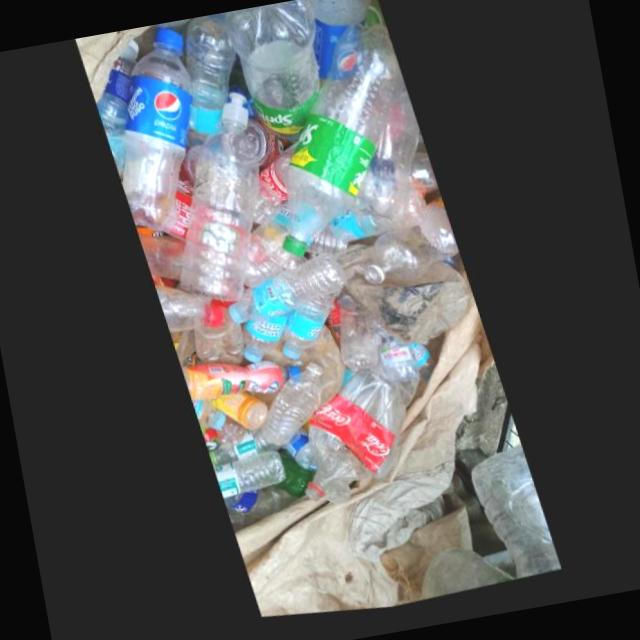chai_nhua_pet: (282, 27, 405, 263), (181, 98, 260, 309), (219, 0, 320, 149), (122, 35, 193, 240), (304, 374, 405, 508), (348, 86, 420, 226), (229, 258, 347, 331), (360, 206, 459, 288), (186, 22, 236, 152), (262, 368, 324, 453), (336, 291, 383, 377), (282, 298, 339, 365), (214, 458, 286, 507), (156, 294, 225, 341), (374, 325, 419, 387), (242, 322, 289, 370)
